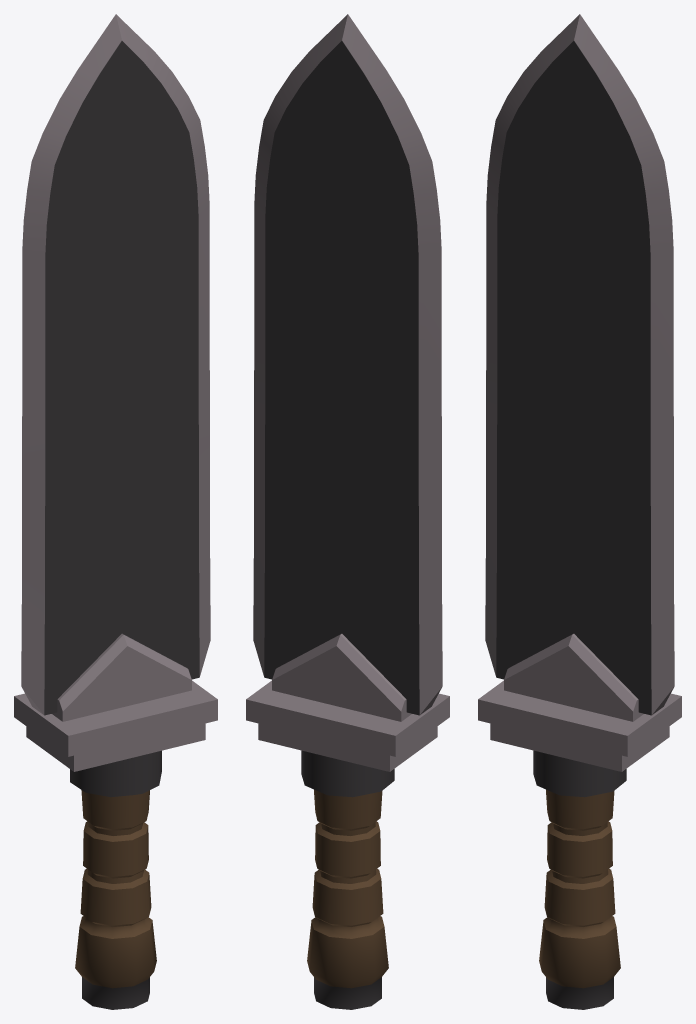
Rendered from Sword-Ds2bJiNI5w.glb.
The picture shows the model from 3 angles, left to right: view 1: azimuth 30°, elevation 25°; view 2: azimuth 150°, elevation 25°; view 3: azimuth 330°, elevation 25°; orthographic projection.
Parts seen in each view (by area): view 1: Weapon_Sword_1; view 2: Weapon_Sword_1; view 3: Weapon_Sword_1.
Boxes of the visible parts, box(x1,y1,x2,y2) form: Weapon_Sword_1: box(14, 14, 217, 1009); Weapon_Sword_1: box(246, 14, 449, 1009); Weapon_Sword_1: box(478, 14, 681, 1009).
Size of the model in its own units: 0.2753 by 1.37 by 0.1367.
Materials: 1 (1 with a texture image).
